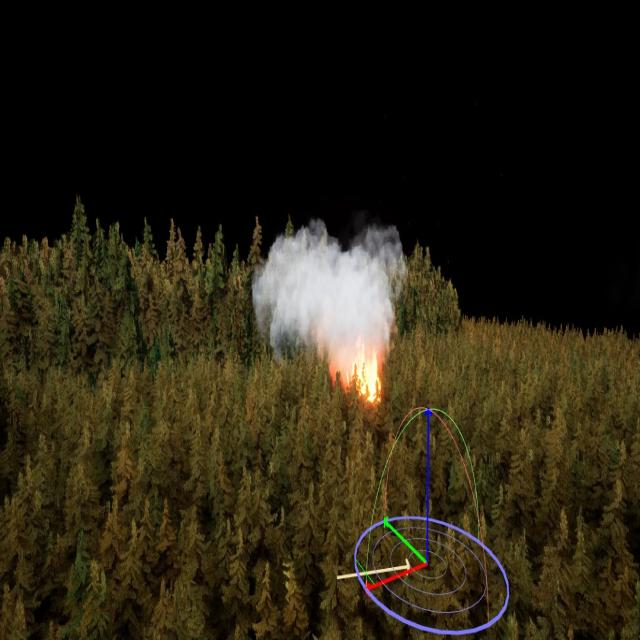fire: (341, 337, 385, 418)
smoke: (252, 227, 406, 371)
